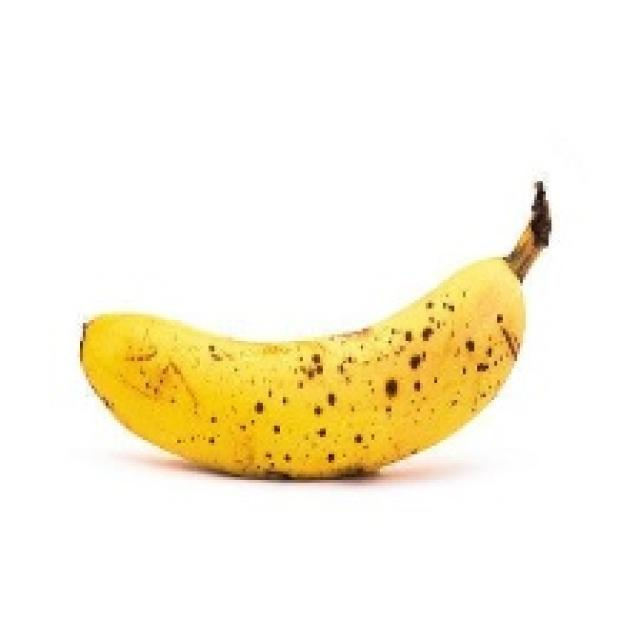Banana: (77, 177, 552, 480)
